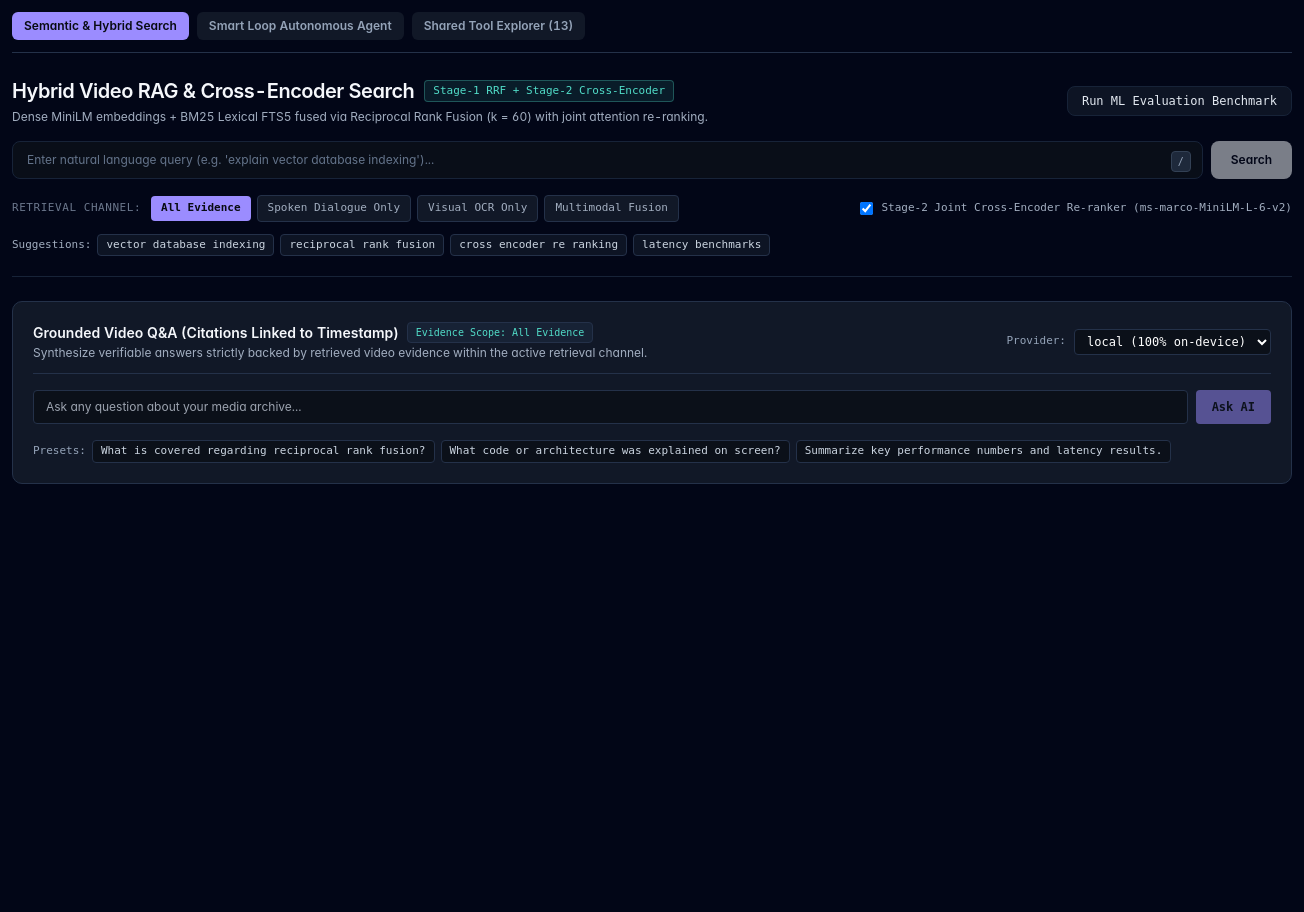
HybridSearchView › propagates selected retrieval channel to both semantic search and Grounded Q&A APIs
The image size is (1304, 912).
Select Visual OCR Only channel
Click the button with test id "channel-filter-visual".
click(478, 208)  # box [417,195,538,222]
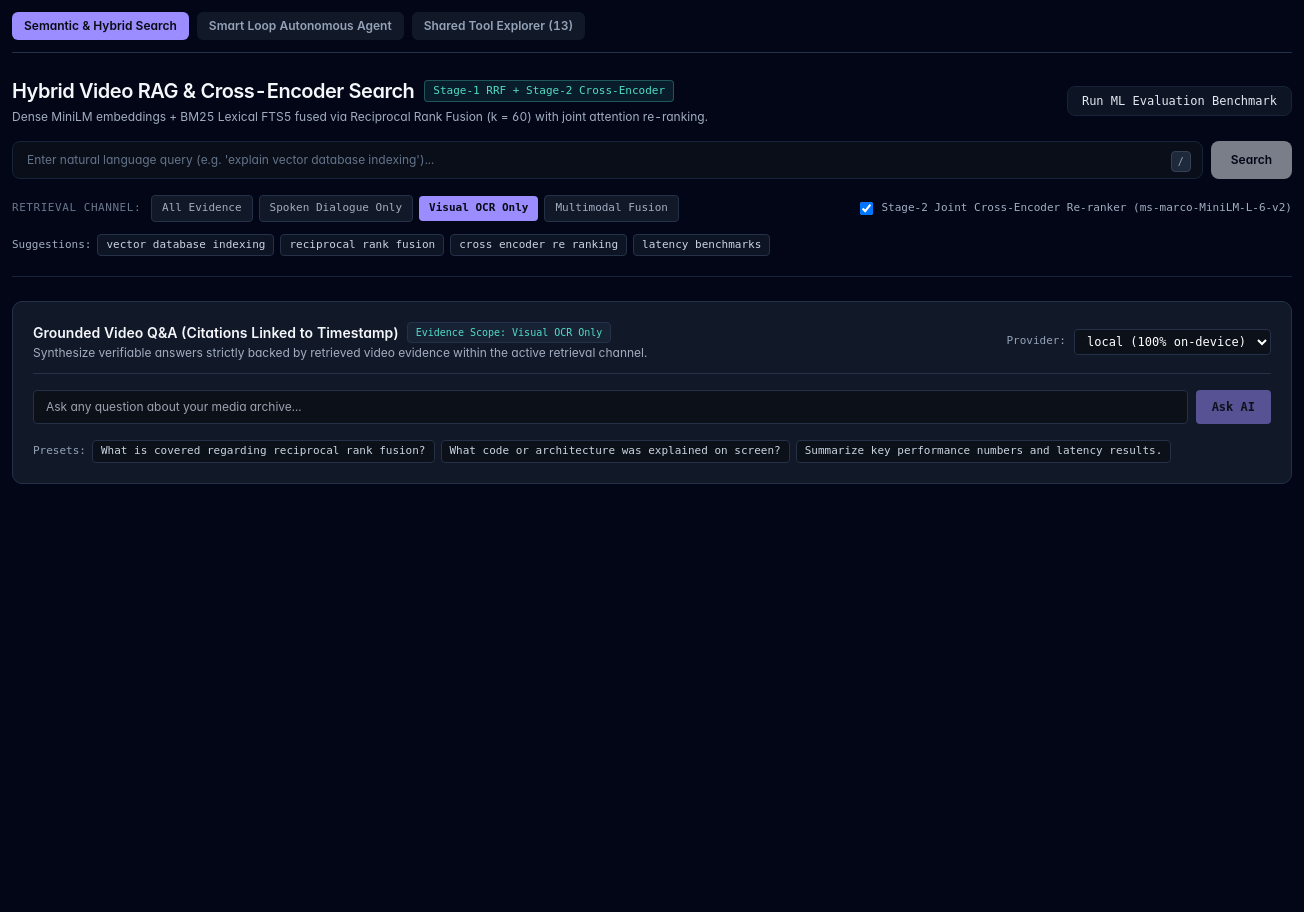
Result: the text with test id "qa-active-channel-badge" reads "Evidence Scope: Visual OCR Only" at [407,322,611,343]
Run search
Replace the text in the field named "Search query" with "on screen diagram" at (607,160), box [12,141,1203,179]
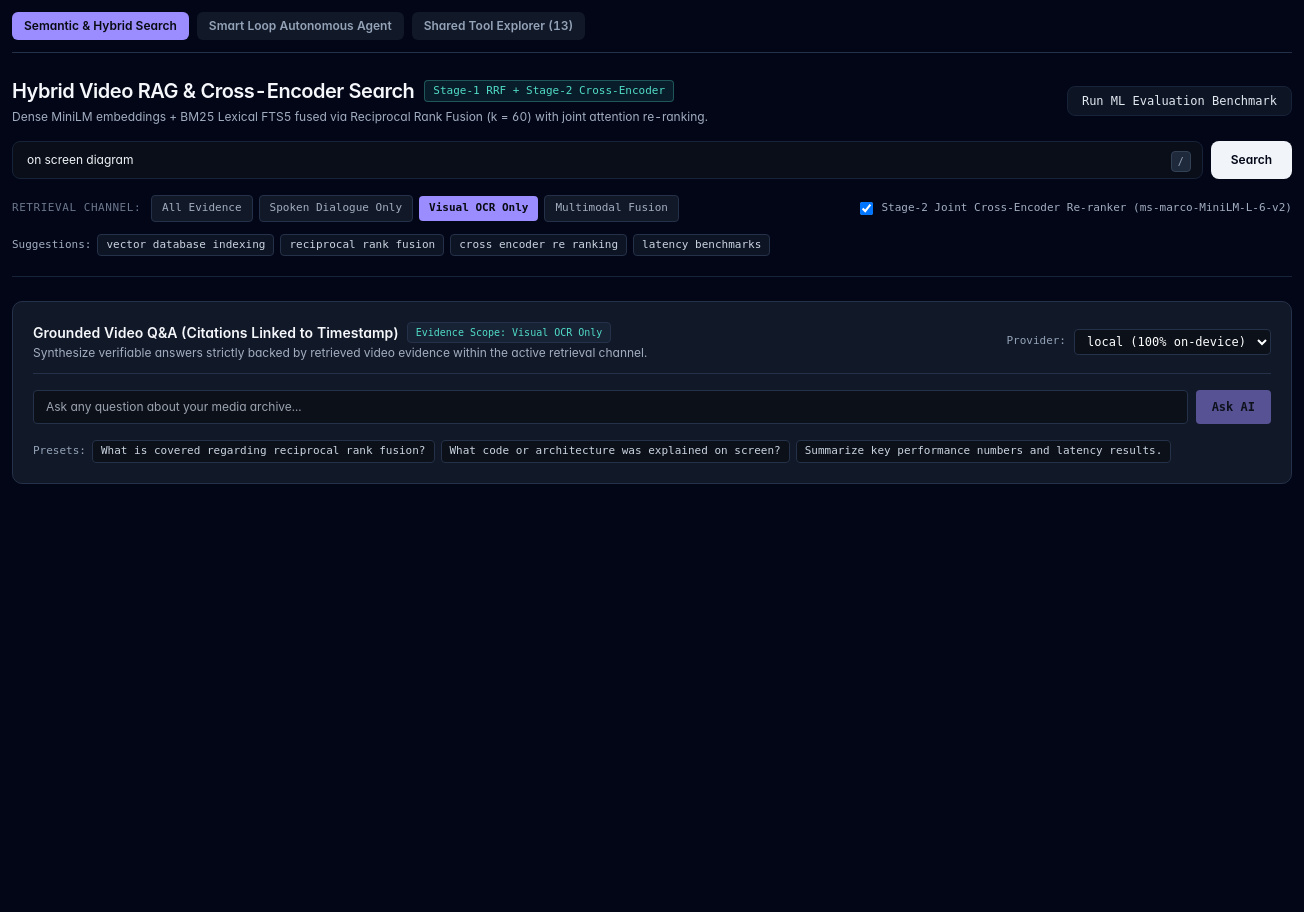
Click the button "Search".
click(1251, 160)  # box [1211,141,1292,179]
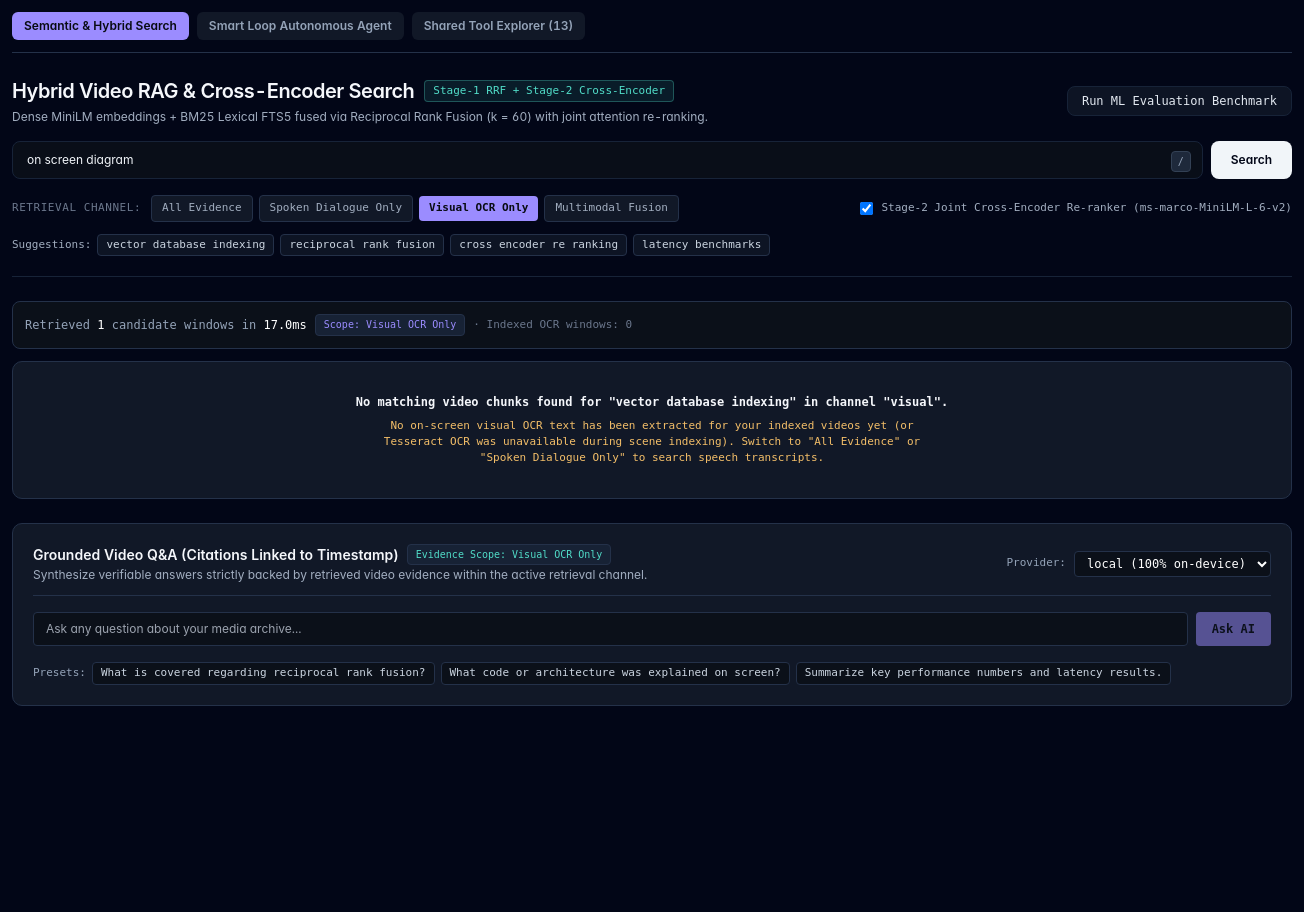
Result: the text "No on-screen visual OCR text has been extracted" is shown at [384,419,920,464]
Run Grounded Q&A and confirm it also sends channel: "visual"
Type "What code was shown?" into the field named "Grounded Q&A question".
click(610, 629); type("What code was shown?")  # box [33,612,1188,646]
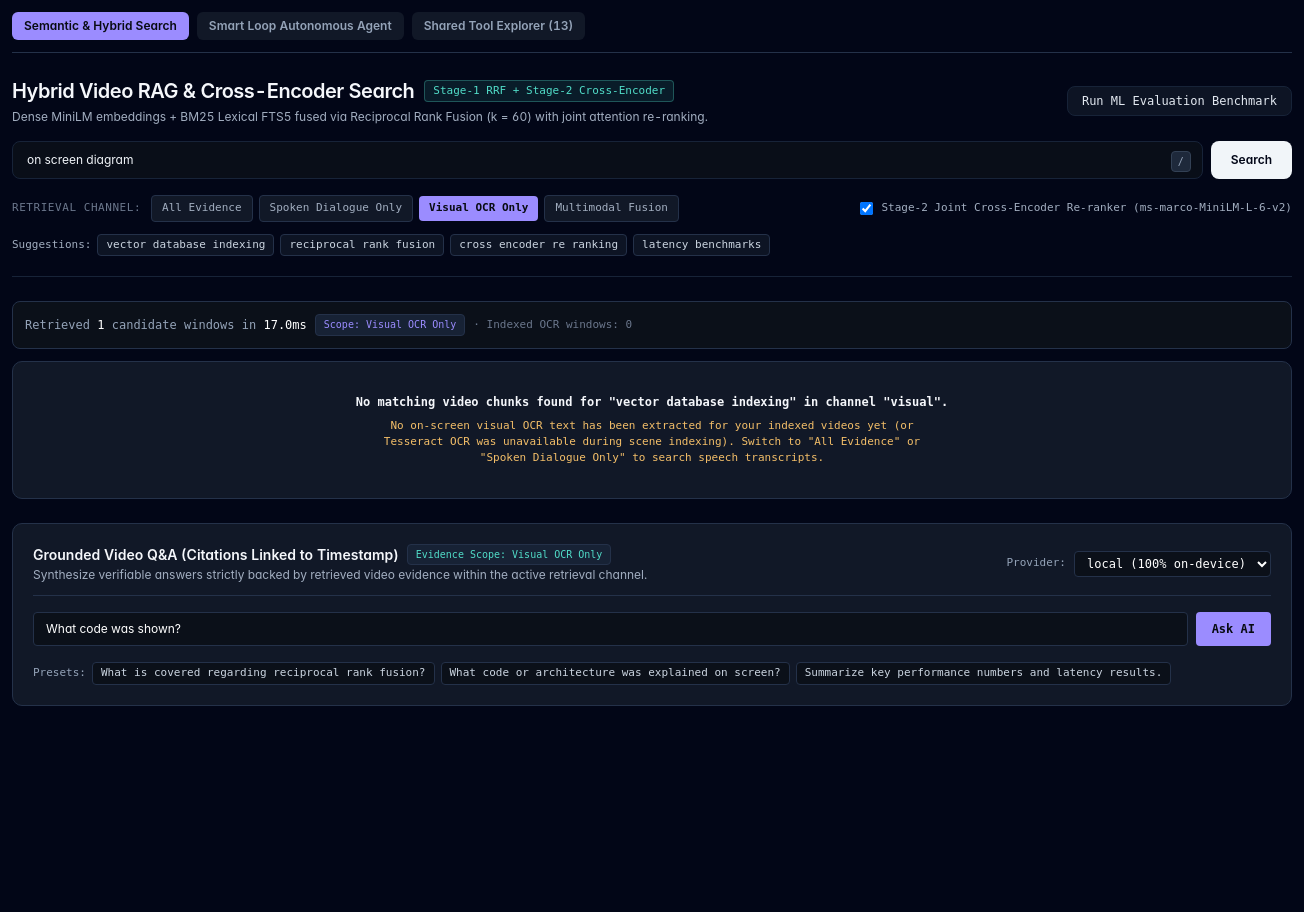
Click the button "Ask AI".
click(1233, 629)  # box [1196,612,1271,646]
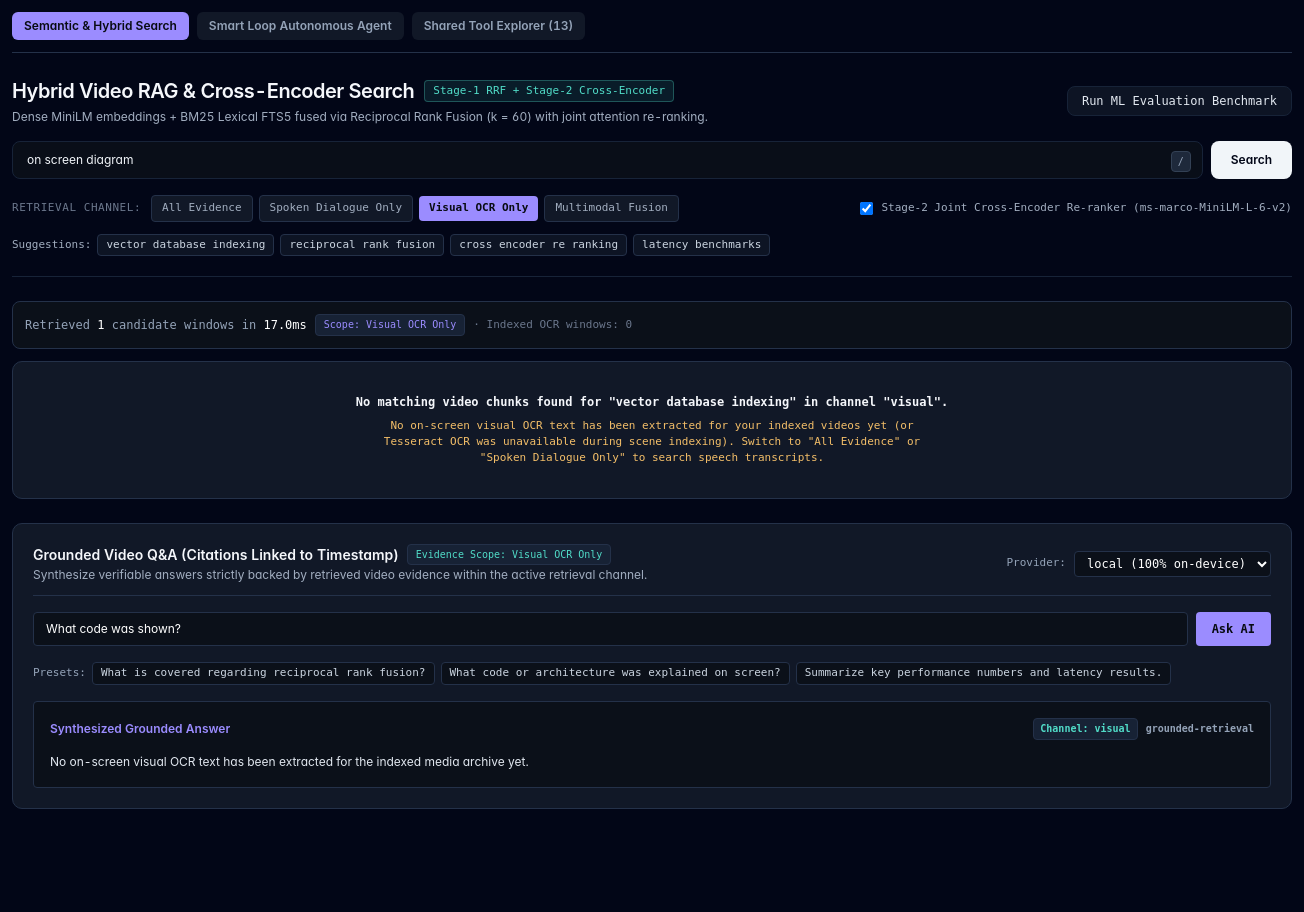
Result: the text "Channel: visual" is shown at [1033,718,1138,740]
